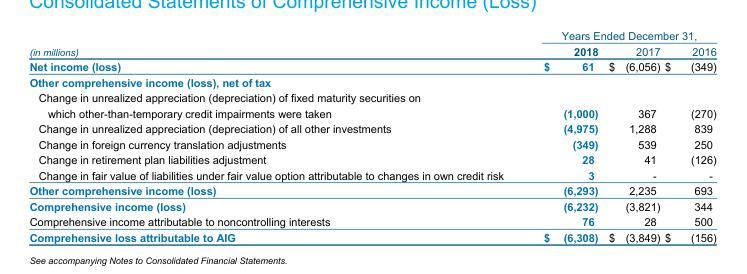table: (28, 29, 715, 243)
table column: (28, 29, 522, 243), (522, 29, 602, 243), (602, 29, 661, 243), (661, 29, 715, 243)
table column header: (28, 29, 715, 58)
table projected row header: (28, 89, 715, 105), (28, 74, 715, 89)
table row: (28, 58, 715, 74), (28, 89, 715, 105), (28, 120, 715, 136), (28, 151, 715, 167), (28, 182, 715, 198), (28, 213, 715, 229), (28, 43, 715, 58), (28, 74, 715, 89), (28, 105, 715, 120), (28, 136, 715, 151), (28, 167, 715, 182), (28, 198, 715, 213), (28, 29, 715, 43), (28, 229, 715, 243)
table spanning cell: (28, 29, 522, 58), (522, 29, 715, 43)
